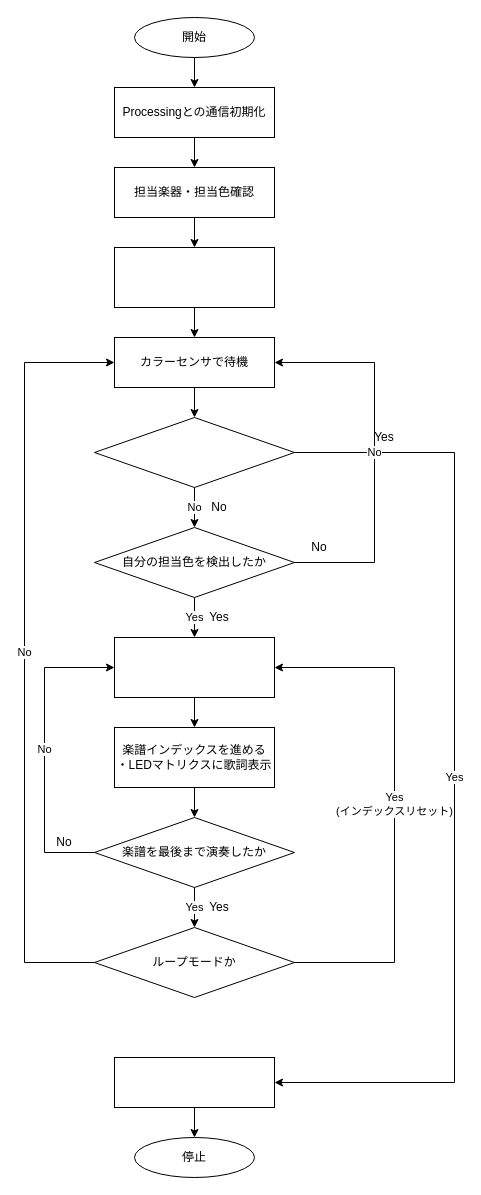
The diagram is 481 pixels wide and 1195 high, and some of its shapes have lost their labels. The shapes that lost their labels are listed below. From the top down, each one's centre as x and y in pixels, then its label:
[194,277]: WebからHTTP受信 （楽器，楽譜，個別音量）
[194,452]: 停止信号を受信したか
[194,667]: Processingに音情報を送信 （pitch，volume，duration，楽器ID）
[194,1082]: Processingとの通信終了
